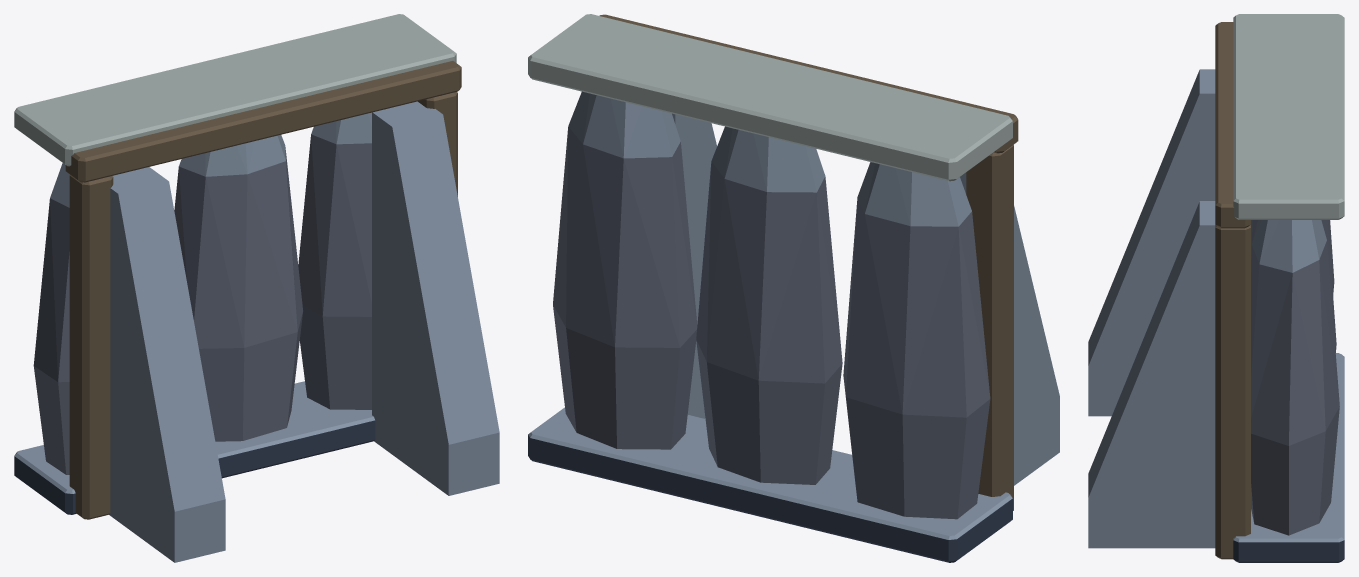
The model's file is wall-buttress.glb.
The picture shows the model from 3 angles, left to right: view 1: azimuth 30°, elevation 25°; view 2: azimuth 150°, elevation 25°; view 3: azimuth 270°, elevation 25°; orthographic projection. The views are drawn at different scales.
Parts seen in each view (by area): view 1: wall-buttress__body; view 2: wall-buttress__body; view 3: wall-buttress__body.
Boxes of the visible parts, box(x1,y1,x2,y2) form: wall-buttress__body: box(14, 14, 499, 562); wall-buttress__body: box(528, 14, 1059, 562); wall-buttress__body: box(1088, 14, 1344, 562).
Size of the model in its own units: 2.01 by 1.8 by 1.15.
